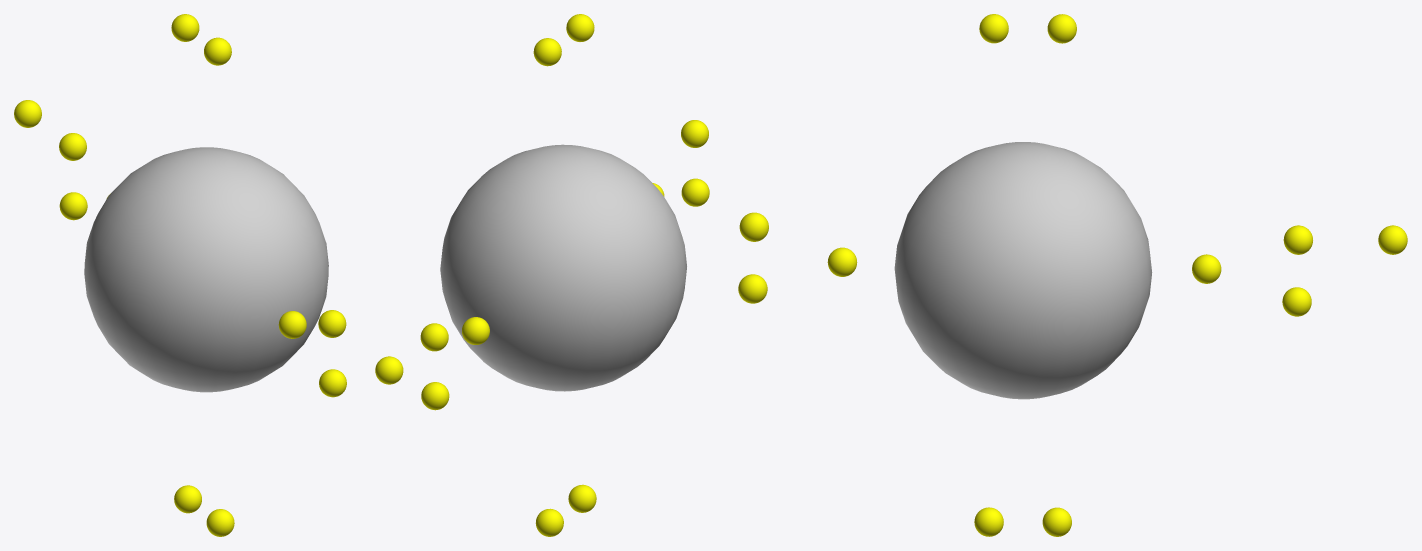
File: Sodium_Ionic_Bond.fbx
The picture shows the model from 3 angles, left to right: view 1: azimuth 30°, elevation 25°; view 2: azimuth 150°, elevation 25°; view 3: azimuth 270°, elevation 25°; orthographic projection. The views are drawn at different scales.
Parts seen in each view (by area): view 1: Sphere, Sphere.001, Sphere.016, Sphere.012, Sphere.011, Sphere.010, Sphere.009, Sphere.008, Sphere.007, Sphere.006, Sphere.005; view 2: Sphere, Sphere.016, Sphere.008, Sphere.007, Sphere.006, Sphere.010, Sphere.012, Sphere.011, Sphere.004, Sphere.001, Sphere.009; view 3: Sphere.
Boxes of the visible parts, left/top/right/bottom form: Sphere: left=84, top=147, right=328, bottom=392; Sphere.001: left=59, top=192, right=87, bottom=220; Sphere.016: left=14, top=100, right=41, bottom=127; Sphere.012: left=204, top=37, right=231, bottom=65; Sphere.011: left=171, top=14, right=199, bottom=41; Sphere.010: left=206, top=509, right=234, bottom=536; Sphere.009: left=174, top=485, right=201, bottom=513; Sphere.008: left=319, top=369, right=346, bottom=397; Sphere.007: left=59, top=133, right=86, bottom=160; Sphere.006: left=318, top=310, right=346, bottom=337; Sphere.005: left=278, top=311, right=306, bottom=338; Sphere: left=440, top=144, right=686, bottom=391; Sphere.016: left=375, top=356, right=403, bottom=384; Sphere.008: left=681, top=178, right=709, bottom=206; Sphere.007: left=420, top=323, right=448, bottom=351; Sphere.006: left=681, top=120, right=708, bottom=147; Sphere.010: left=568, top=484, right=596, bottom=512; Sphere.012: left=566, top=14, right=594, bottom=41; Sphere.011: left=533, top=38, right=561, bottom=66; Sphere.004: left=462, top=317, right=489, bottom=344; Sphere.001: left=421, top=382, right=449, bottom=410; Sphere.009: left=535, top=508, right=563, bottom=536; Sphere: left=894, top=142, right=1152, bottom=399.
Size of the model in its own units: 140 by 312 by 364.
